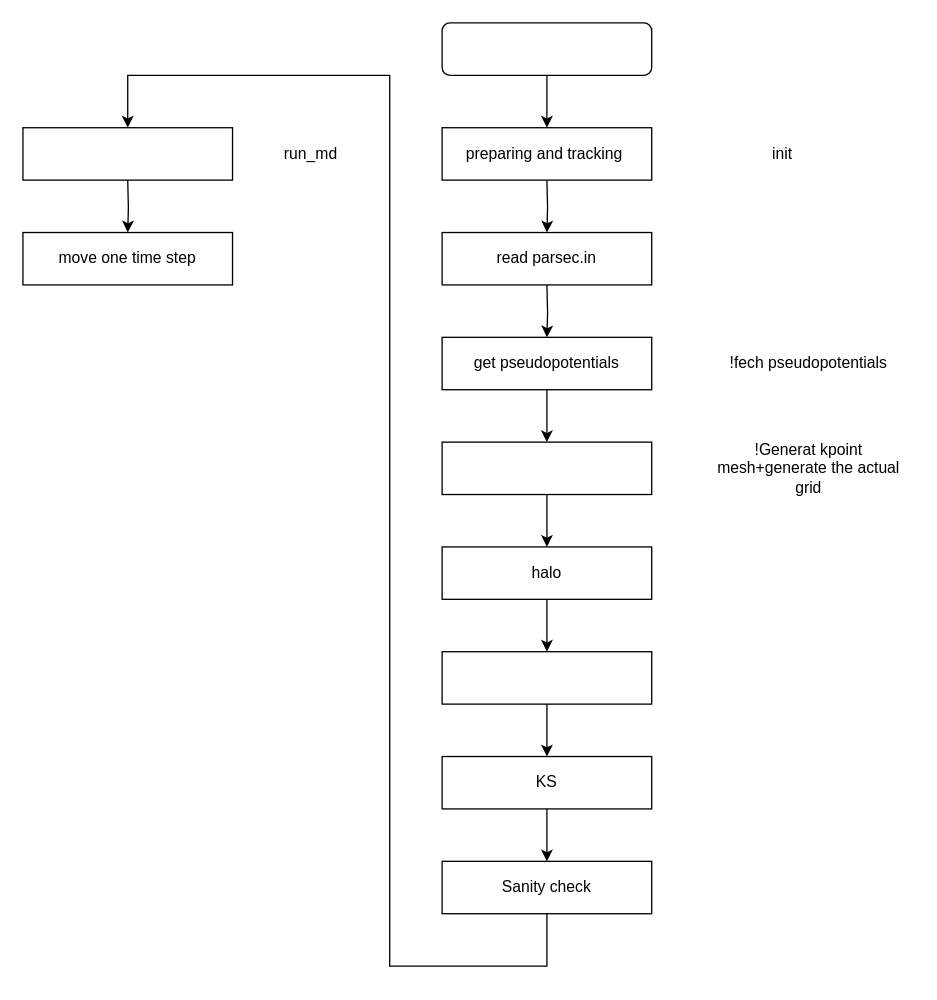
Some shapes in this 937 by 1000 pixel diagram are drawn without their labels. Here are the shapes that lost their labels. From the top down, the box of each, then its label:
(441, 22, 652, 75): start
(22, 126, 233, 180): set initial conditions (like velocities)
(441, 441, 652, 495): make grid
(441, 650, 652, 704): matrix
